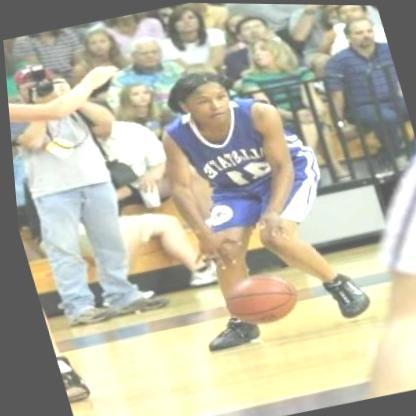basketball: (207, 258, 305, 338)
